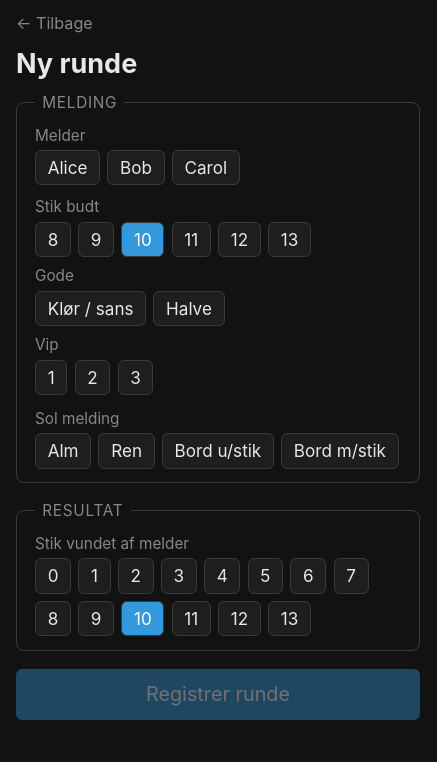
Scenario: Round screen - Kat (Tjell hasKat) › shows Kat as fixed disabled chip in Makker row
The width and height of the screenshot is (437, 762).
# 3 players + Kat: no Sidder over, Alice appears once
Click the button "Alice" at (68, 168), box [35,150,100,186]
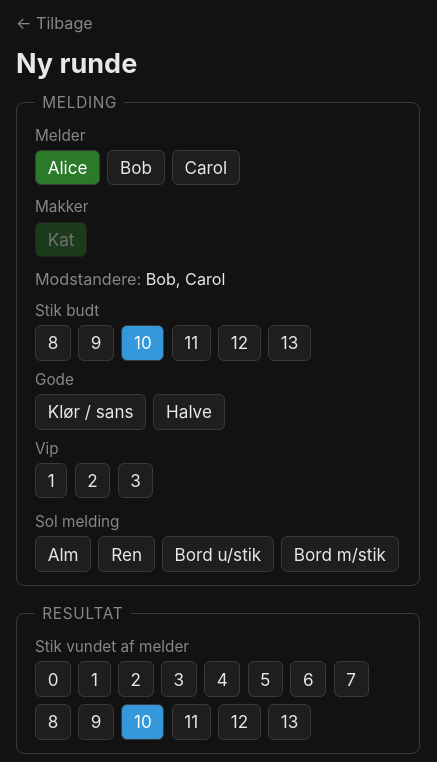
Expected: the button "Kat" is disabled, [35,222,87,257]
